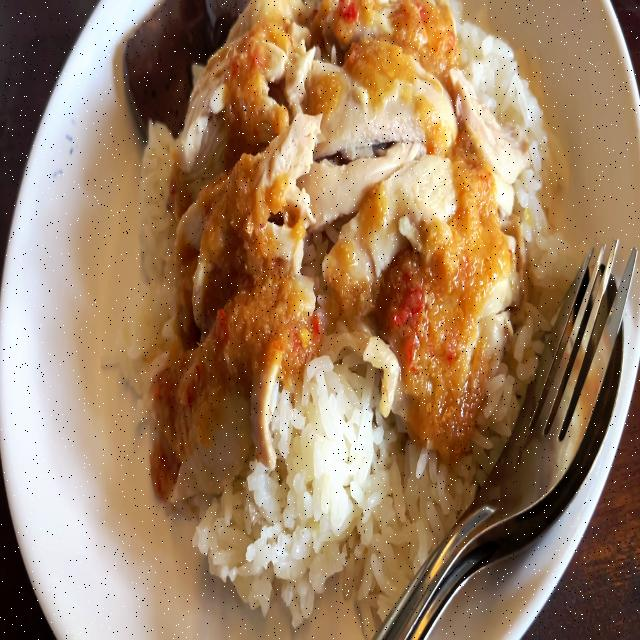boiled_chicken: (178, 0, 483, 423)
boiled_chicken_blood_jelly: (118, 0, 219, 123)
chicken_rice: (112, 0, 560, 613)
